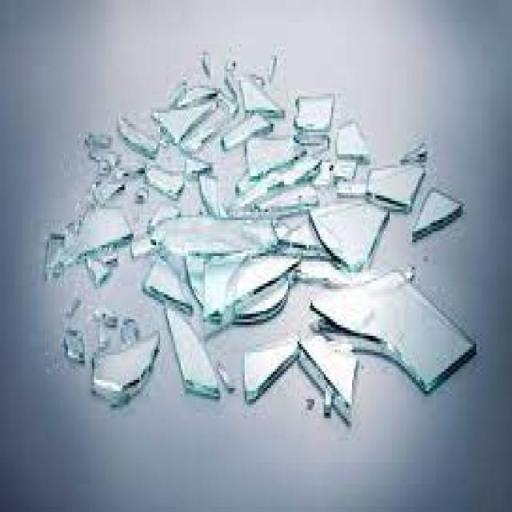glass: (308, 261, 480, 397), (188, 248, 300, 326), (308, 268, 415, 333), (49, 203, 134, 276), (310, 201, 390, 272), (162, 306, 221, 400), (300, 331, 360, 422), (90, 331, 160, 407), (154, 214, 280, 256), (236, 153, 322, 211), (241, 336, 301, 404), (120, 203, 182, 259), (151, 99, 218, 148), (142, 254, 194, 316), (364, 162, 426, 214), (412, 186, 464, 242), (244, 134, 296, 179), (236, 74, 284, 120), (220, 113, 272, 154), (116, 112, 160, 158), (293, 93, 334, 134), (152, 144, 200, 178), (334, 120, 370, 162), (144, 164, 184, 200), (198, 172, 227, 219), (171, 80, 216, 110), (44, 232, 68, 281), (147, 202, 181, 232), (336, 176, 367, 200), (332, 157, 358, 184)
